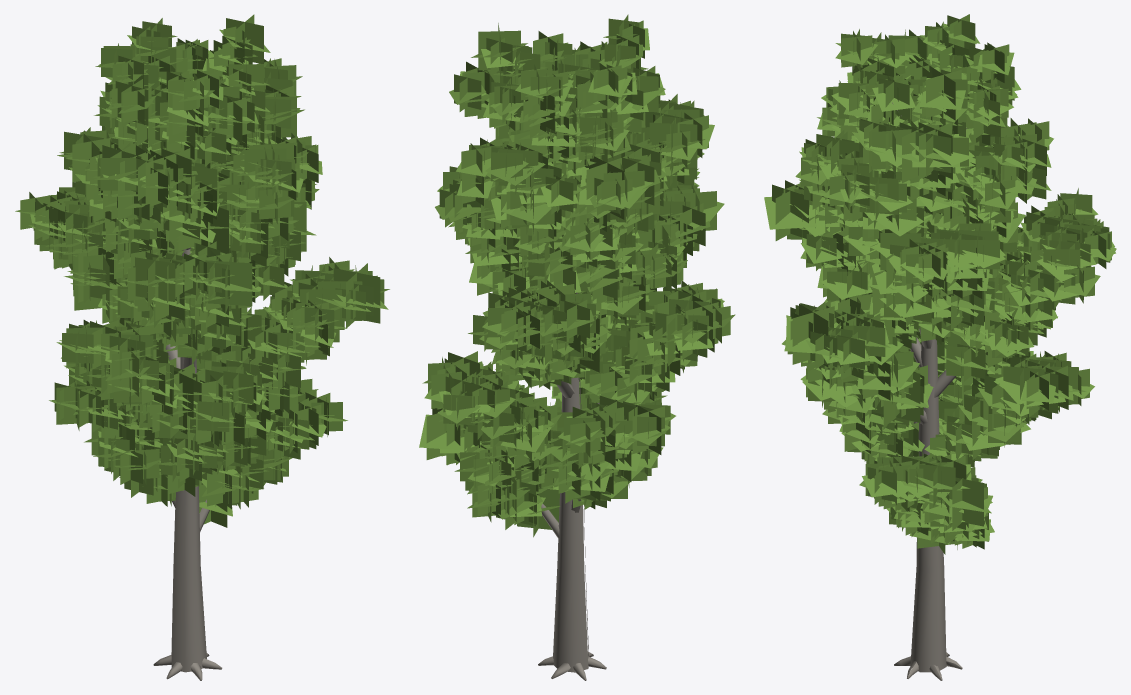
The model's file is tilleul_5_f2_jeu.glb.
3 views of the same model, side by side, from view 1: azimuth 30°, elevation 25°; view 2: azimuth 150°, elevation 25°; view 3: azimuth 270°, elevation 25° (orthographic).
Parts seen in each view (by area): view 1: Tilleul_T5_f2_Leger; view 2: Tilleul_T5_f2_Leger; view 3: Tilleul_T5_f2_Leger.
Boxes of the visible parts, x1,y1,x2,y2 form: Tilleul_T5_f2_Leger: [15, 14, 389, 680]; Tilleul_T5_f2_Leger: [419, 14, 735, 680]; Tilleul_T5_f2_Leger: [764, 14, 1116, 680].
Bounding box in the file's own units: 9.76 × 20.22 × 10.34.
